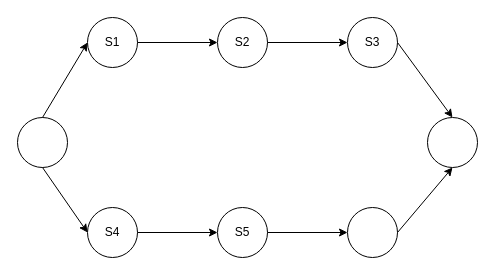
Some shapes in this 495 by 275 pixel diagram are drawn without their labels. The shapes that lost their labels are listed below. From the top down, each one's centre as x and y in pixels, then its label:
the point at 42,142: S0
the point at 452,142: S7
the point at 372,232: S6
